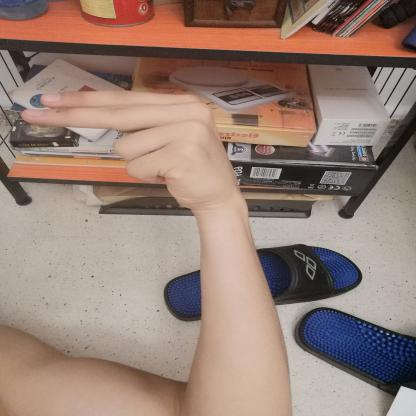AYN: (9, 79, 260, 217)
